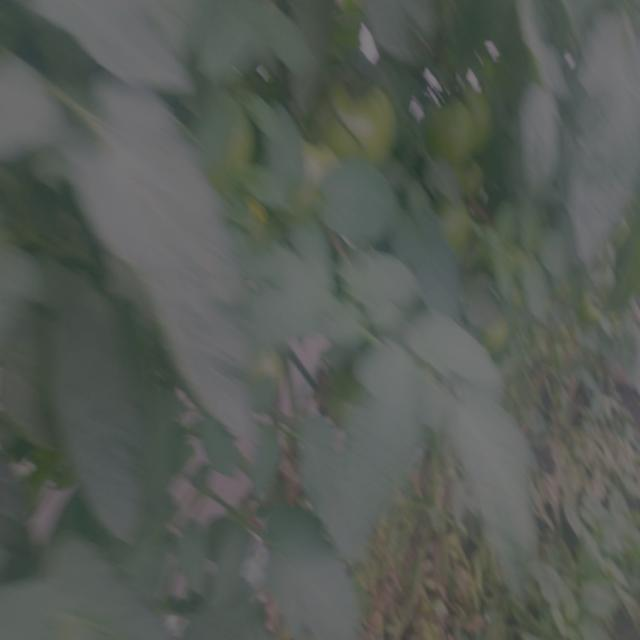tomato: (339, 73, 405, 172), (430, 79, 497, 164), (220, 102, 266, 173), (297, 118, 335, 184), (255, 341, 294, 398), (447, 200, 483, 259), (237, 192, 275, 242), (484, 311, 516, 351), (588, 295, 606, 329)
